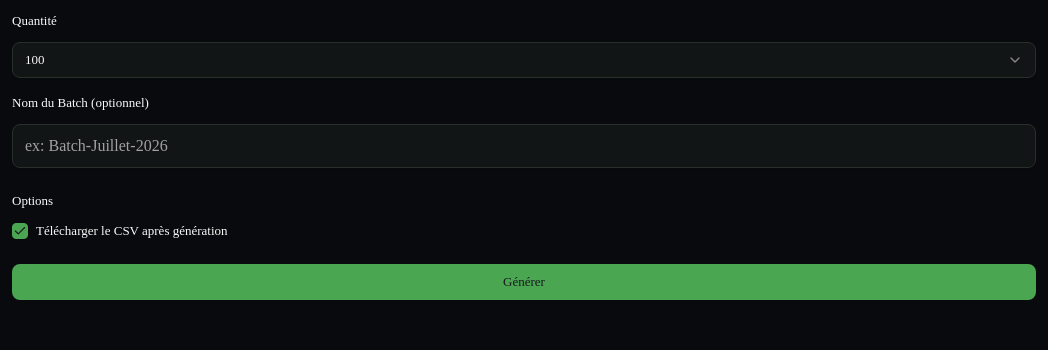
Scenario: GenerateQrForm › lands a server-side field error on the field it belongs to
Click the button "Générer": (524, 282) [12,264,1036,300]
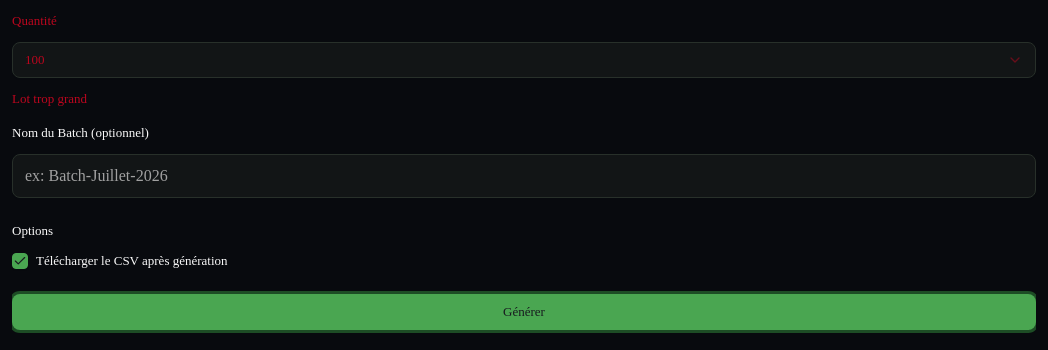
Expected: the text "Lot trop grand" is shown, [12,91,87,106]
